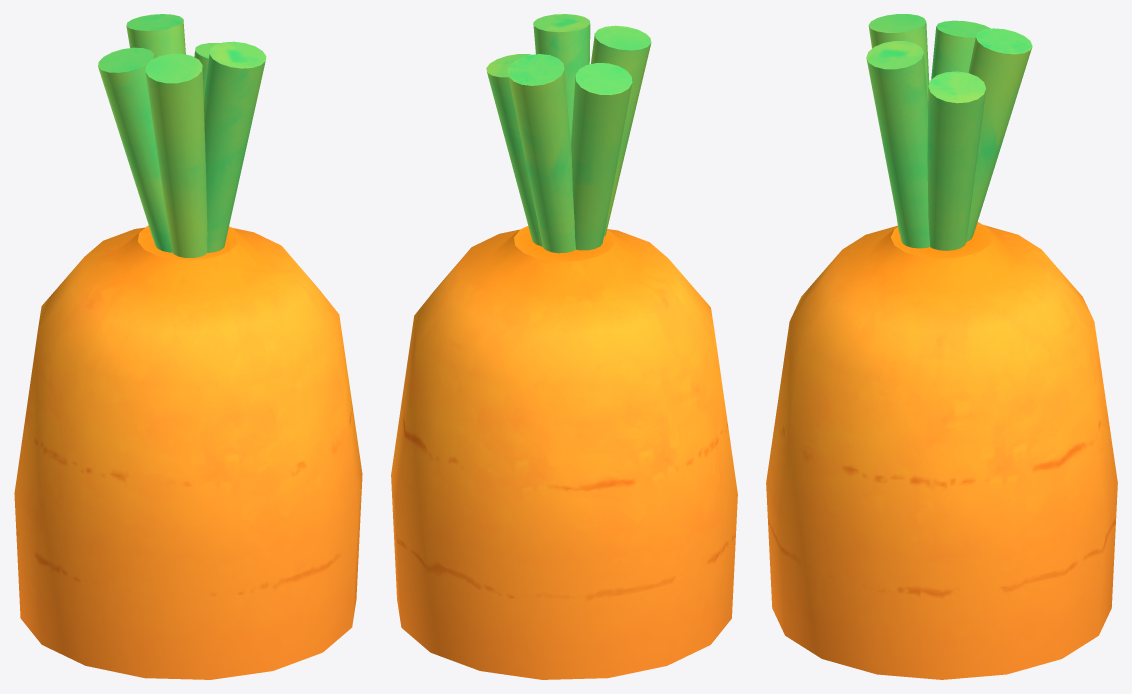
Rendered from carrot_top.glb.
3 renders of one model, left to right at view 1: azimuth 30°, elevation 25°; view 2: azimuth 150°, elevation 25°; view 3: azimuth 270°, elevation 25°, orthographic.
Parts seen in each view (by area): view 1: CarrotTopA; view 2: CarrotTopA; view 3: CarrotTopA.
Part boxes in pixels (left/top/right/bottom): CarrotTopA: left=14, top=14, right=362, bottom=679; CarrotTopA: left=391, top=14, right=737, bottom=679; CarrotTopA: left=766, top=14, right=1117, bottom=679.
Size of the model in its own units: 0.5074 by 0.9073 by 0.5074.
1 material, 1 textured.
